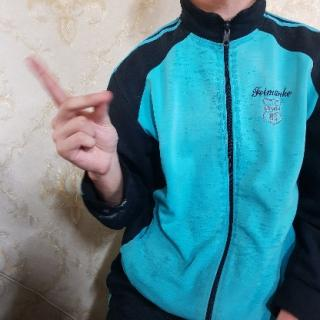TAA: (23, 52, 128, 183)
